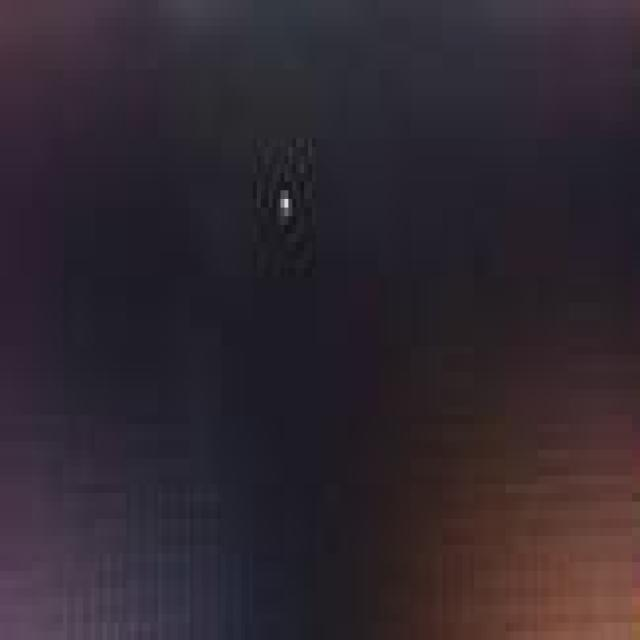dead_pixel: (272, 173, 298, 232)
